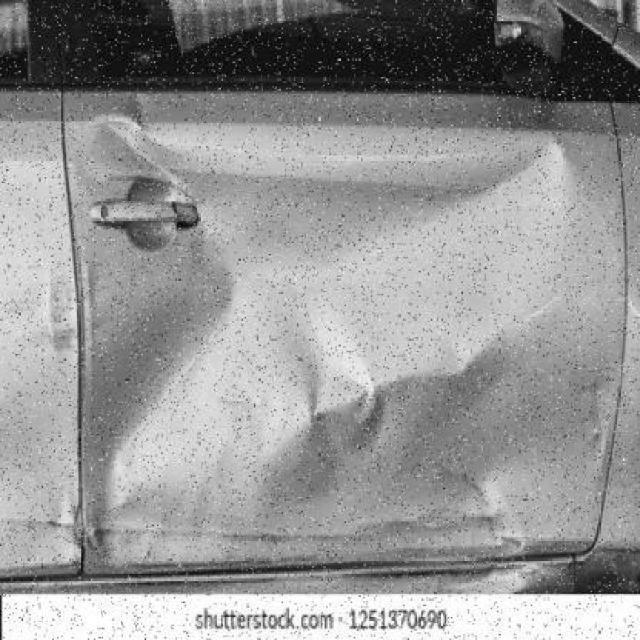RunningBoard-Dent: (225, 563, 581, 600)
doorouter-dent: (83, 94, 595, 563), (2, 88, 78, 577)
